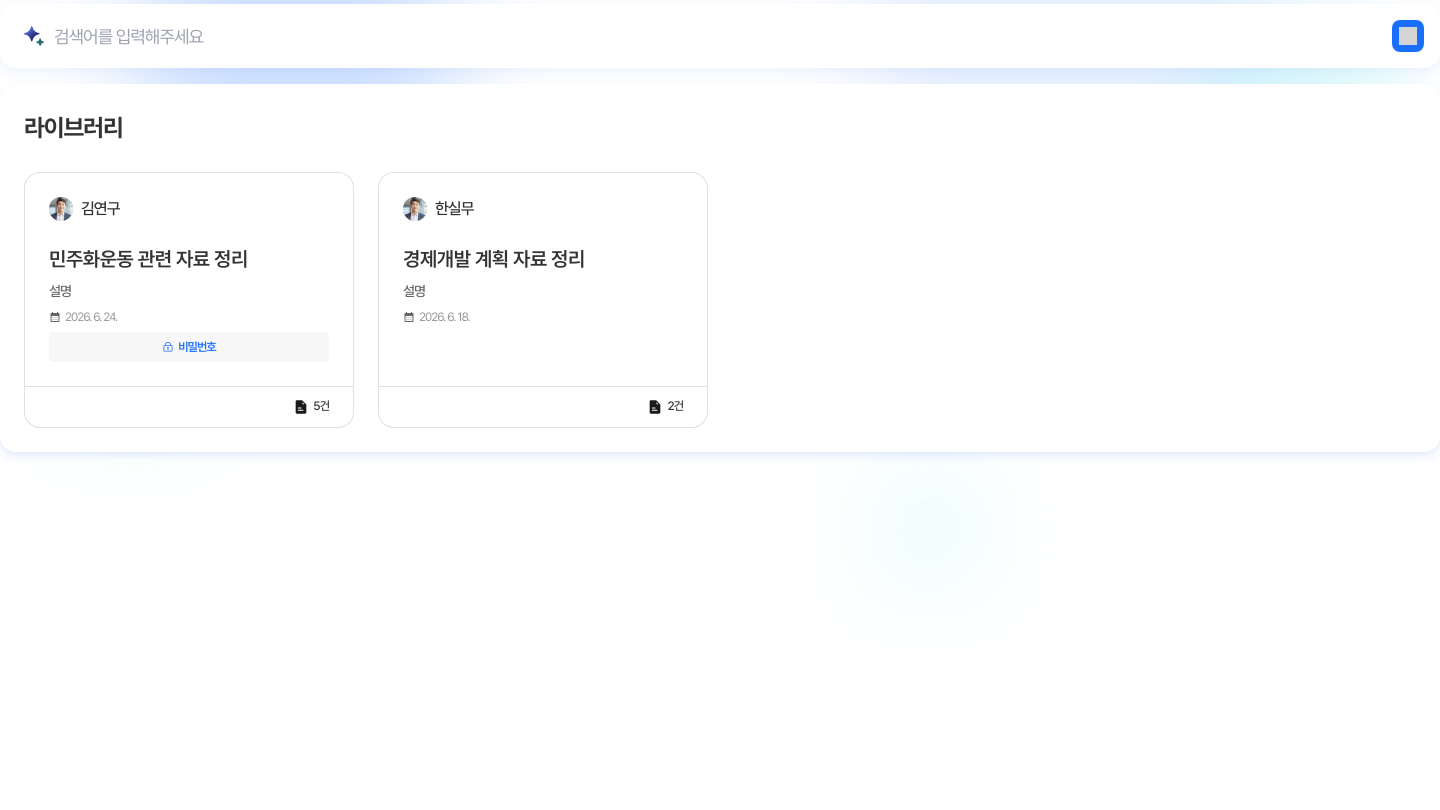
암호가 걸린 카드도 일단 열어 보고, 401 일 때만 암호 모달을 연다
Click the button "민주화운동 관련 자료 정리" at (148, 259), box [49, 245, 248, 273]
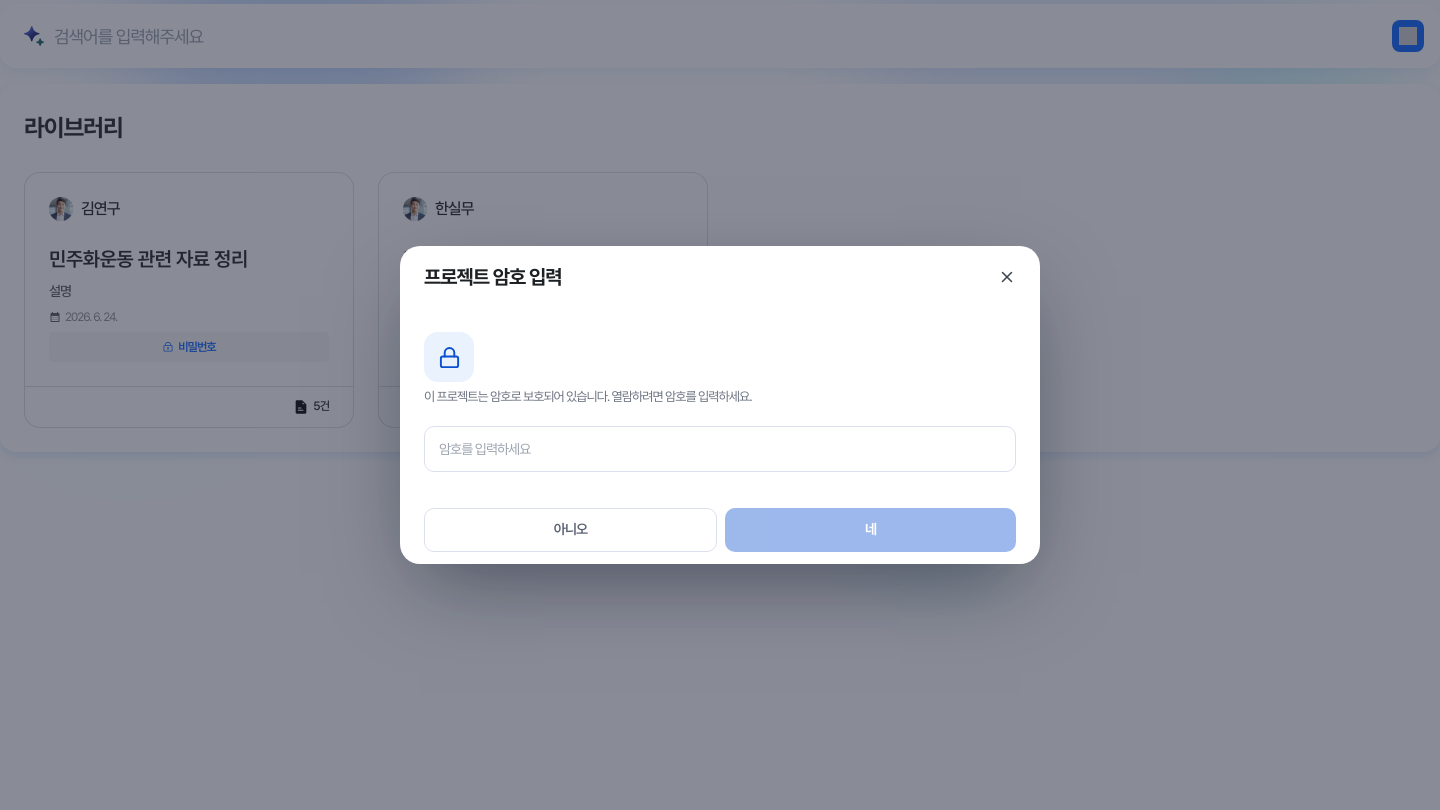
Expected: the heading "프로젝트 암호 입력" is shown, [424, 262, 562, 292]
